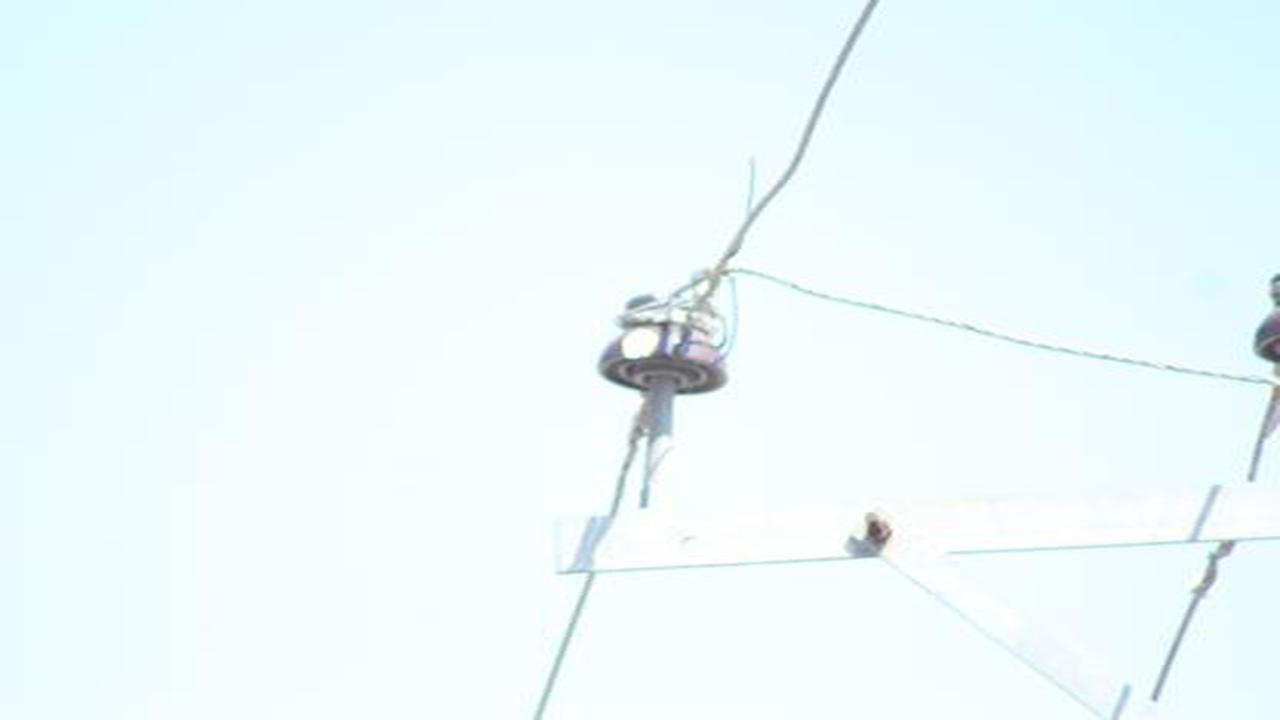defect_pin: (588, 289, 732, 398)
